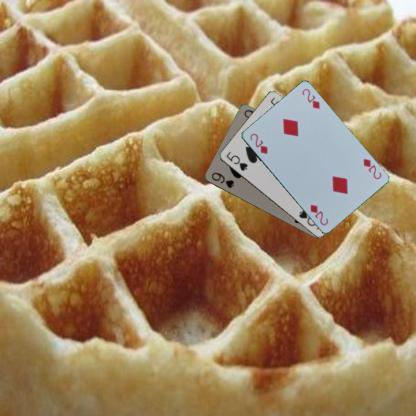2d: (247, 130, 269, 156), (360, 156, 382, 180)
5s: (223, 149, 248, 172)
9s: (208, 170, 236, 190)
